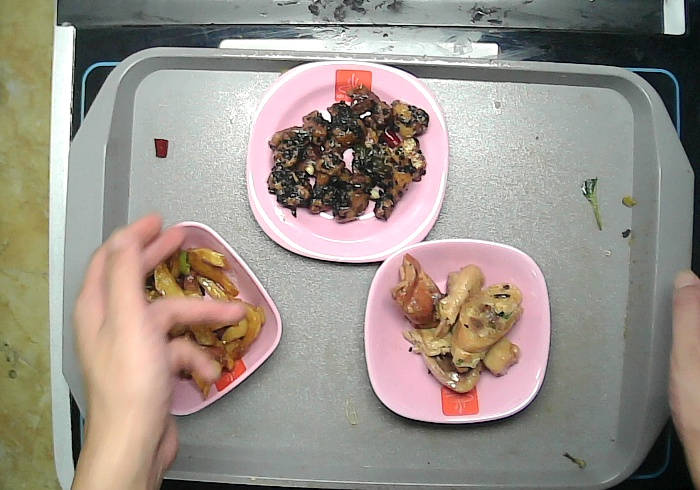SHKJ-Fen_Se_Cai_Die: (363, 240, 549, 427)
SHKJ-Fen_Se_Si_Fang_Cai_Die: (247, 61, 447, 263)
SHKJ-Fen_Se_Xiao_Fang_Die: (92, 220, 284, 416)
